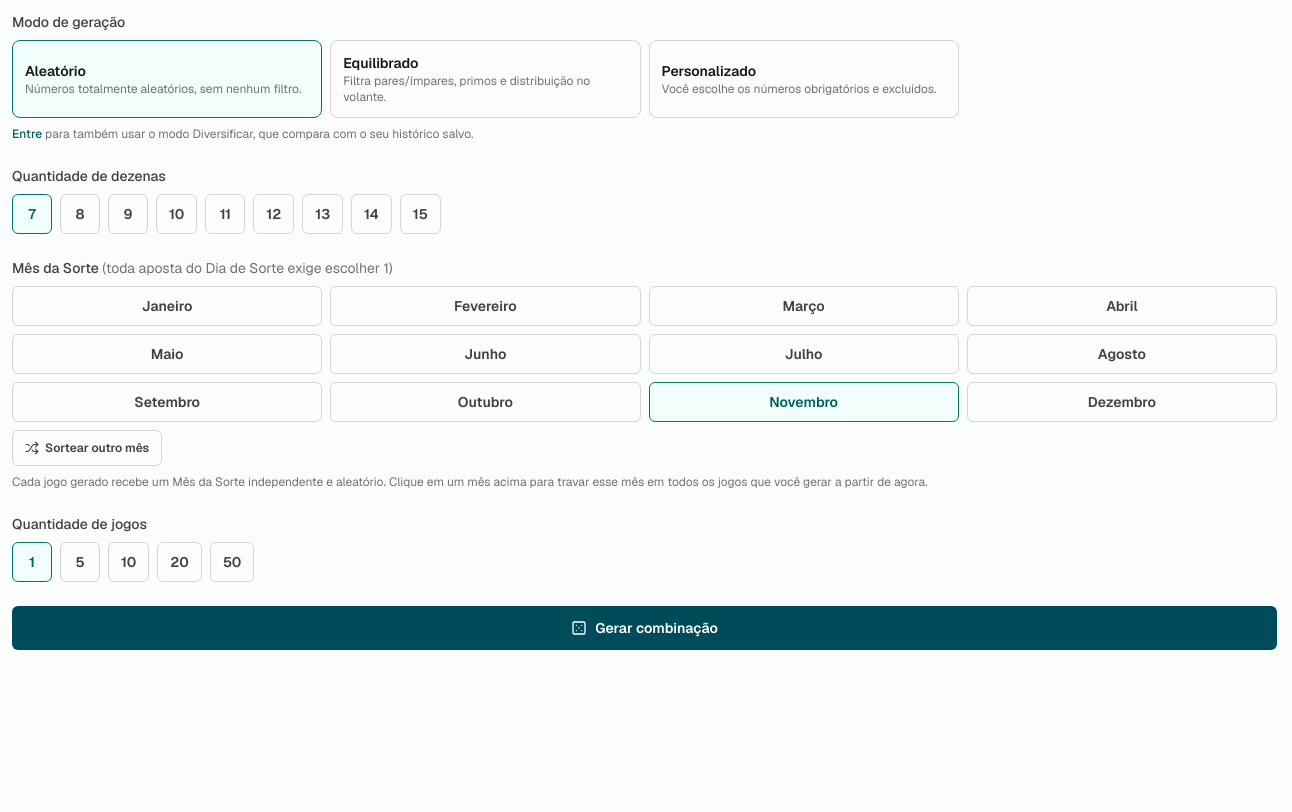
Test case: DiaDeSorteGenerator — Mês da Sorte › clicar em um mês seleciona (trava) esse mês
This screenshot has width=1292, height=812.
Click the button "Julho" at (804, 354), box [648, 334, 959, 374]
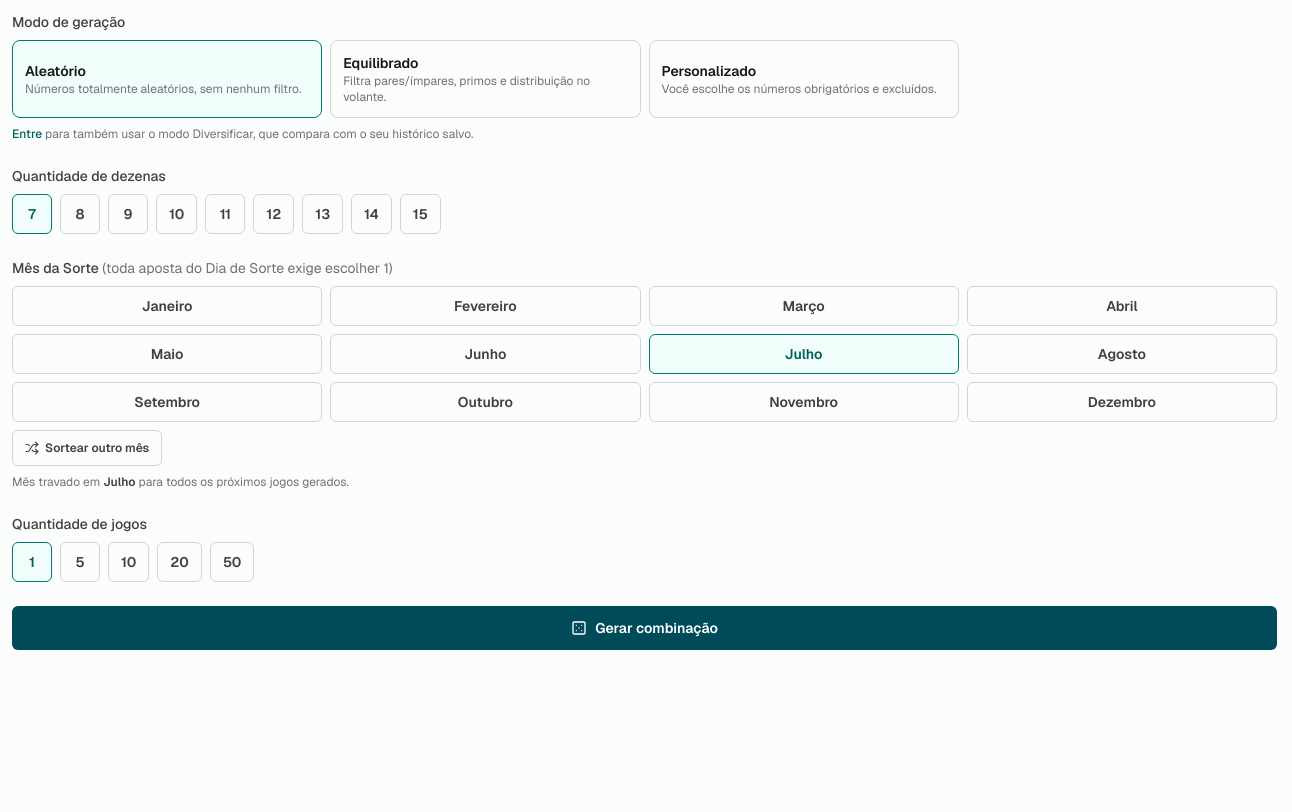
Expected: the text "Mês travado em Julho para todos os próximos jogos gerados." is shown, [12, 474, 349, 490]
Expected: the text "Julho" is shown, [103, 474, 136, 490]
